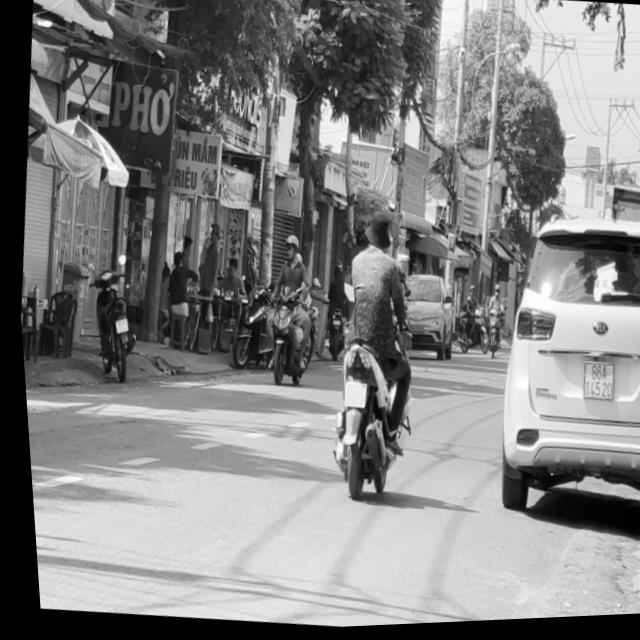licenseplate: (305, 204, 431, 505)
motorcyclist: (358, 211, 388, 254)
nohelmet: (336, 382, 361, 409)
